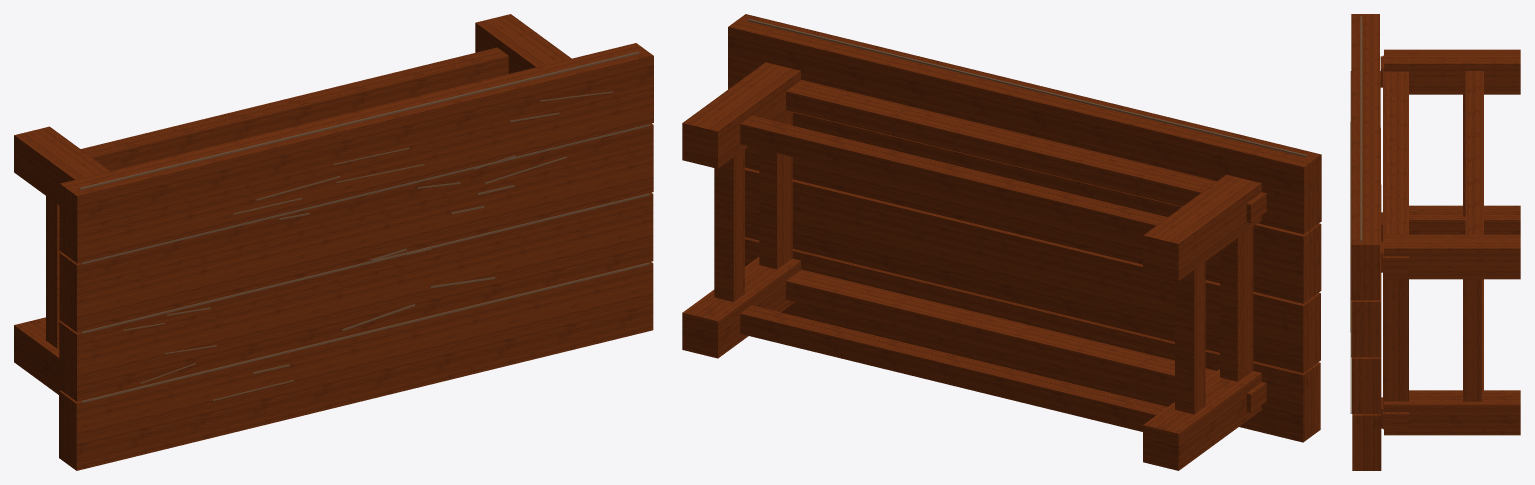
File: rustic_wooden_workbench_table.glb
3 renders of one model, left to right at view 1: azimuth 30°, elevation 25°; view 2: azimuth 150°, elevation 25°; view 3: azimuth 270°, elevation 25°, orthographic. The views are drawn at different scales.
Visible parts, largest first — view 1: tabletop_long_plank_4, tabletop_long_plank_1, tabletop_long_plank_3, tabletop_long_plank_2, back_low_length_stretcher, square_leg_left_back, square_leg_right_back, square_leg_left_front, left_low_side_stretcher, back_top_shadow_line, dark_plank_seam_1, dark_plank_seam_2 (+1 smaller); view 2: tabletop_long_plank_2, tabletop_long_plank_4, tabletop_long_plank_3, tabletop_long_plank_1, back_long_apron, front_long_apron, back_low_length_stretcher, front_low_length_stretcher, square_leg_left_back, square_leg_right_back, square_leg_left_front, square_leg_right_front (+5 smaller); view 3: tabletop_long_plank_4, square_leg_right_back, square_leg_right_front, square_leg_left_back, back_long_apron, right_short_apron, back_low_length_stretcher, square_leg_left_front, right_low_side_stretcher, tabletop_long_plank_3, tabletop_long_plank_1, tabletop_long_plank_2 (+5 smaller).
Part boxes in pixels (left/top/right/bottom): tabletop_long_plank_4: left=59, top=43, right=653, bottom=263; tabletop_long_plank_1: left=59, top=262, right=653, bottom=470; tabletop_long_plank_3: left=59, top=123, right=653, bottom=332; tabletop_long_plank_2: left=59, top=192, right=653, bottom=401; back_low_length_stretcher: left=81, top=47, right=508, bottom=170; square_leg_left_back: left=14, top=126, right=110, bottom=205; square_leg_right_back: left=475, top=14, right=571, bottom=73; square_leg_left_front: left=14, top=317, right=60, bottom=394; left_low_side_stretcher: left=46, top=196, right=61, bottom=348; back_top_shadow_line: left=79, top=51, right=639, bottom=189; dark_plank_seam_1: left=81, top=262, right=649, bottom=403; dark_plank_seam_2: left=81, top=193, right=649, bottom=333; tabletop_long_plank_2: left=745, top=167, right=1320, bottom=373; tabletop_long_plank_4: left=728, top=14, right=1321, bottom=234; tabletop_long_plank_3: left=745, top=112, right=1321, bottom=303; tabletop_long_plank_1: left=745, top=237, right=1320, bottom=442; back_long_apron: left=786, top=79, right=1266, bottom=223; front_long_apron: left=786, top=269, right=1266, bottom=412; back_low_length_stretcher: left=740, top=115, right=1167, bottom=242; front_low_length_stretcher: left=740, top=305, right=1167, bottom=431; square_leg_left_back: left=1143, top=174, right=1261, bottom=281; square_leg_right_back: left=682, top=62, right=800, bottom=168; square_leg_left_front: left=1143, top=369, right=1261, bottom=470; square_leg_right_front: left=682, top=257, right=800, bottom=358; tabletop_long_plank_4: left=1351, top=14, right=1379, bottom=300; square_leg_right_back: left=1384, top=234, right=1520, bottom=279; square_leg_right_front: left=1384, top=390, right=1520, bottom=435; square_leg_left_back: left=1384, top=49, right=1520, bottom=94; back_long_apron: left=1383, top=55, right=1408, bottom=273; right_short_apron: left=1383, top=273, right=1408, bottom=406; back_low_length_stretcher: left=1465, top=71, right=1483, bottom=234; square_leg_left_front: left=1409, top=205, right=1520, bottom=234; right_low_side_stretcher: left=1463, top=279, right=1481, bottom=401; tabletop_long_plank_3: left=1351, top=71, right=1380, bottom=357; tabletop_long_plank_1: left=1352, top=185, right=1381, bottom=470; tabletop_long_plank_2: left=1352, top=128, right=1380, bottom=413.
Size of the model in its own units: 3.4 by 1.57 by 1.06.
Materials: 2 (1 with a texture image).
